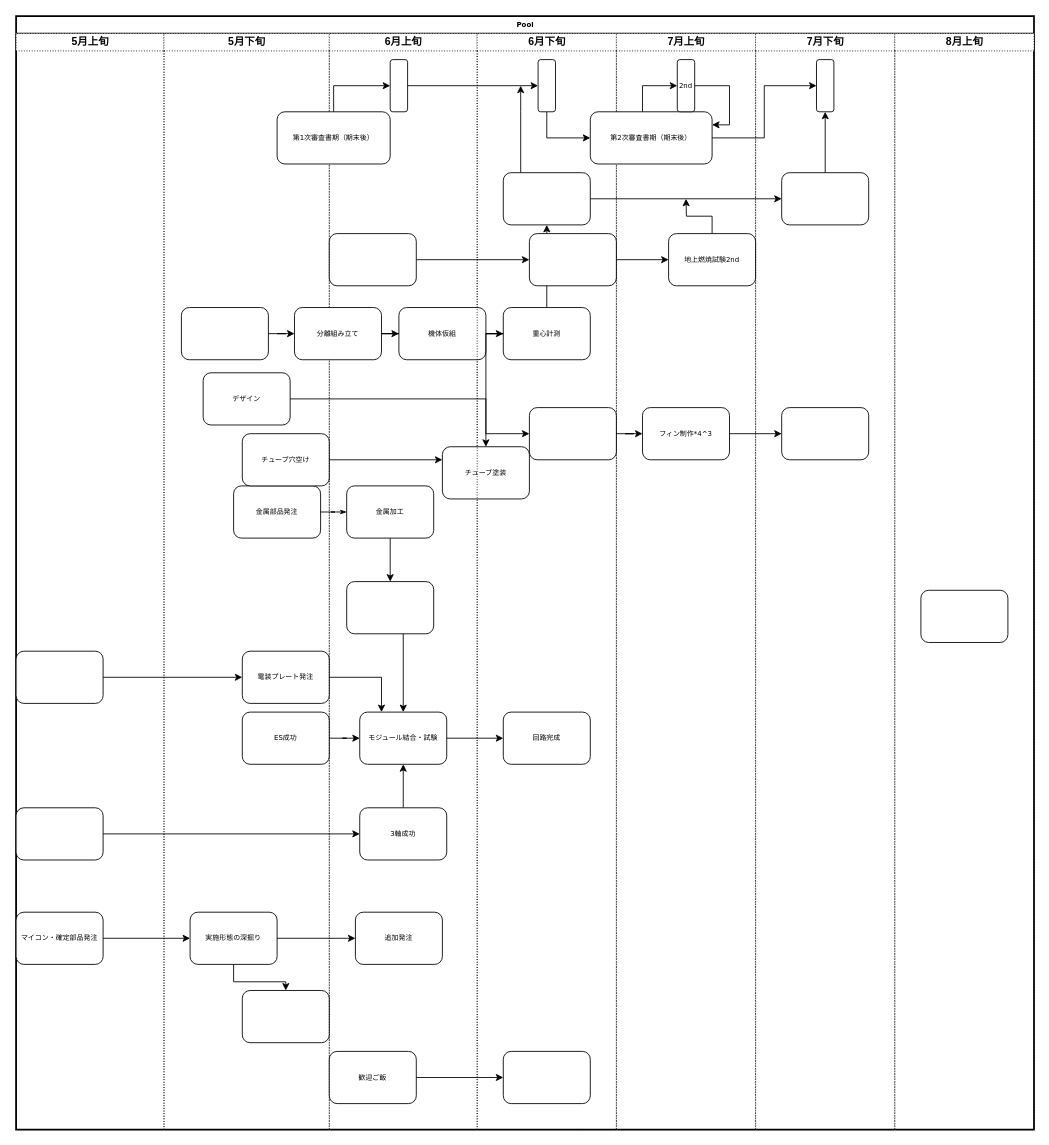
Image size: 1049x1145. Some labels were removed from this diagram. The centre of each missing label's shape, as x and y in pixels:
"1st" goes at [546,85].
"3rd" goes at [825,85].
"3軸決定" goes at [59,833].
"フィン塗装" goes at [825,433].
"フィン決定" goes at [572,433].
"プレ" goes at [398,85].
"ロードセル箱・基盤" goes at [372,259].
"分離基盤設計" goes at [59,676].
"地上燃焼試験1st" goes at [572,259].
"新入生教育" goes at [546,1077].
"新入生教育・回路量産" goes at [285,1016].
"本番プリント" goes at [224,333].
"第2次シミュレーション" goes at [546,198].
"第3 次シミュレーション" goes at [825,198].
"電装タワー制作" goes at [390,607].
